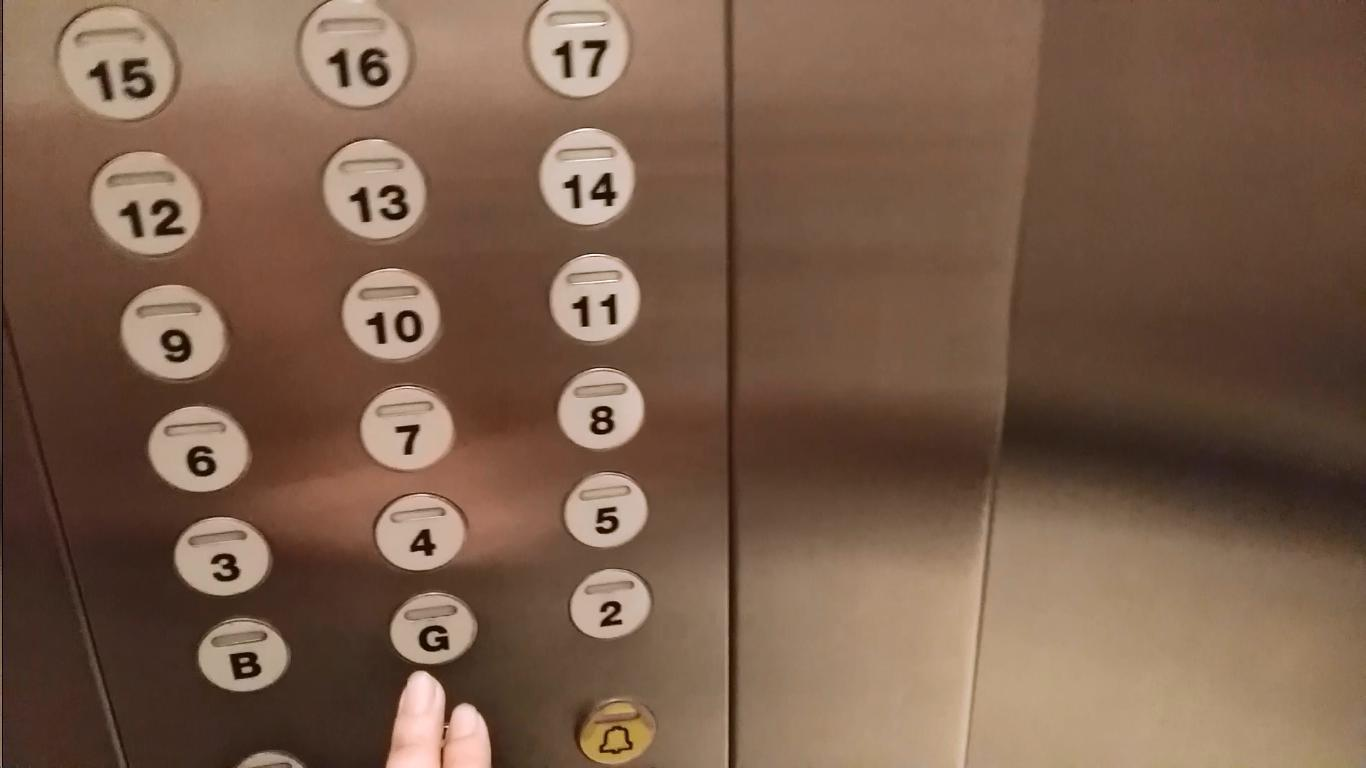10: (338, 261, 444, 364)
11: (545, 248, 642, 345)
12: (84, 144, 206, 259)
13: (316, 133, 431, 240)
14: (532, 123, 639, 226)
15: (50, 0, 181, 121)
16: (291, 0, 418, 108)
17: (520, 0, 635, 102)
2: (566, 562, 656, 644)
3: (170, 511, 274, 601)
4: (370, 490, 468, 575)
5: (558, 464, 653, 553)
6: (142, 400, 255, 495)
7: (354, 381, 459, 470)
8: (552, 361, 651, 454)
9: (115, 280, 231, 382)
B: (190, 611, 296, 695)
G: (384, 585, 484, 669)
alarm: (573, 690, 660, 766)
